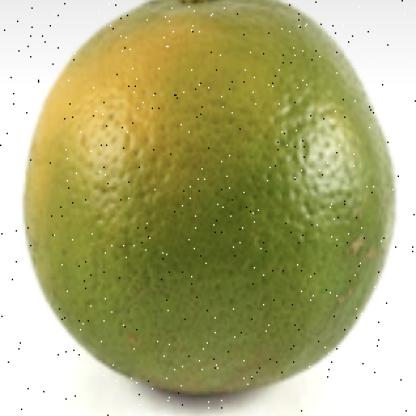fresh: (23, 1, 396, 398)
